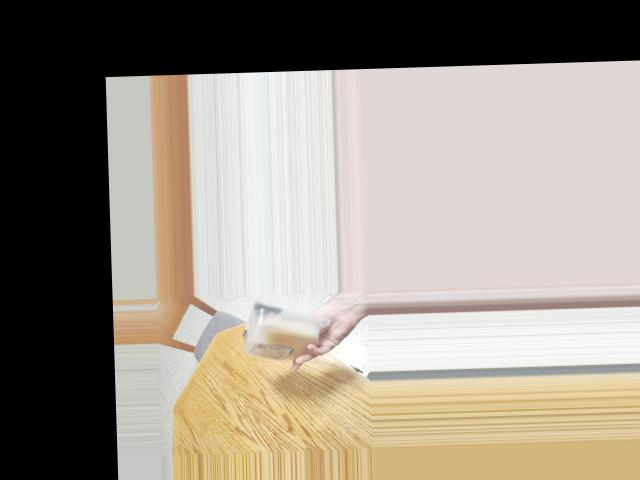cheese: (238, 301, 322, 365)
